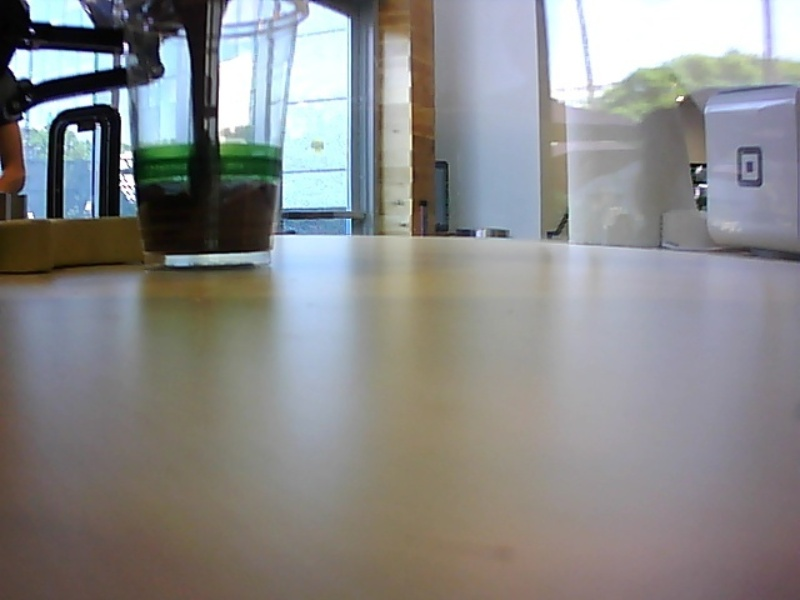cup: (110, 1, 313, 272)
limit: (133, 170, 285, 205)
